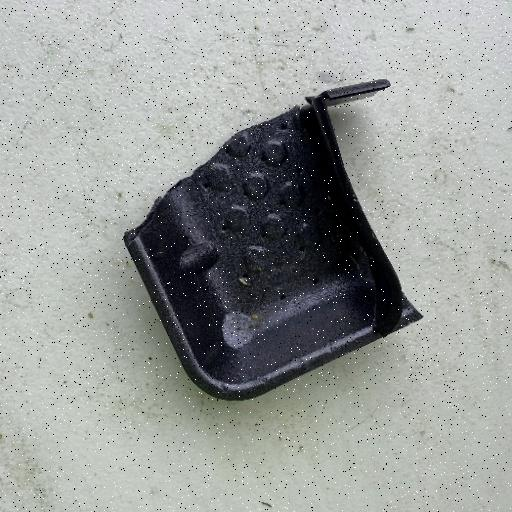Plastic: (121, 76, 424, 402)
